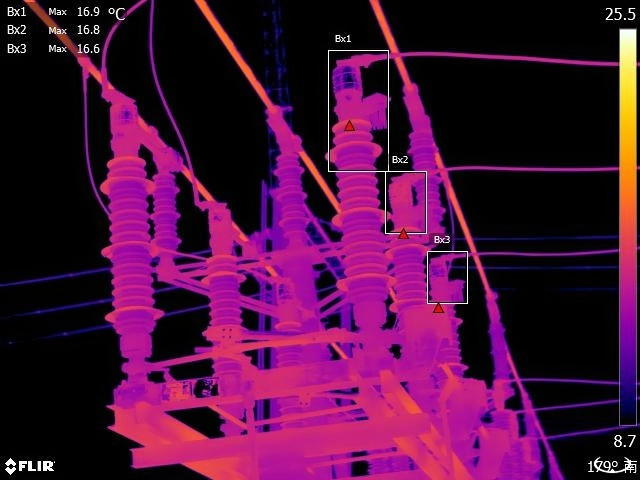post insulator: (321, 109, 396, 315), (105, 139, 158, 391), (201, 241, 250, 395), (396, 209, 433, 374), (274, 315, 309, 428), (410, 122, 448, 225), (273, 149, 313, 246), (430, 292, 465, 386), (152, 169, 181, 256)
